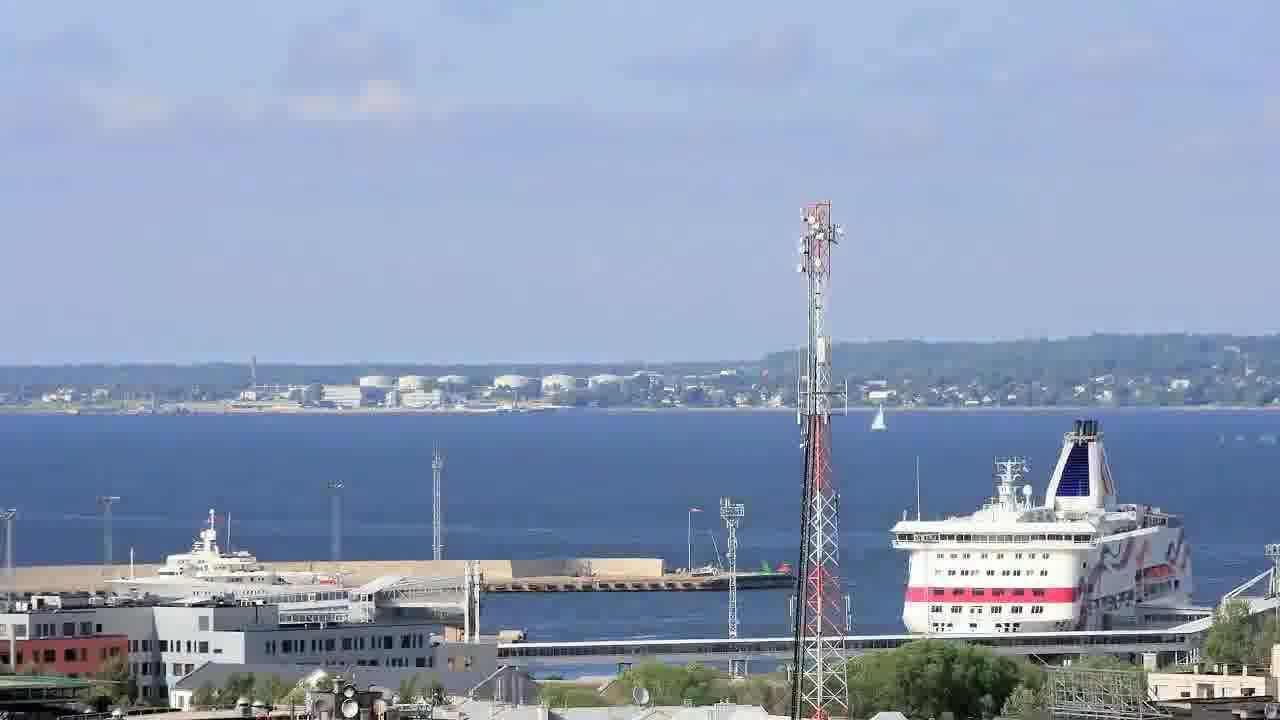type-2: (860, 384, 907, 437)
type-3: (868, 415, 1225, 638), (84, 511, 353, 609)
